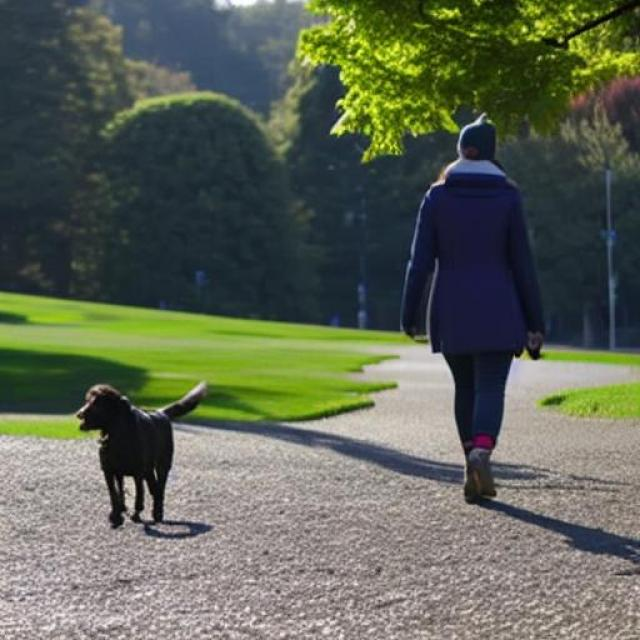Unleashed_Dog: (76, 304, 521, 525)
